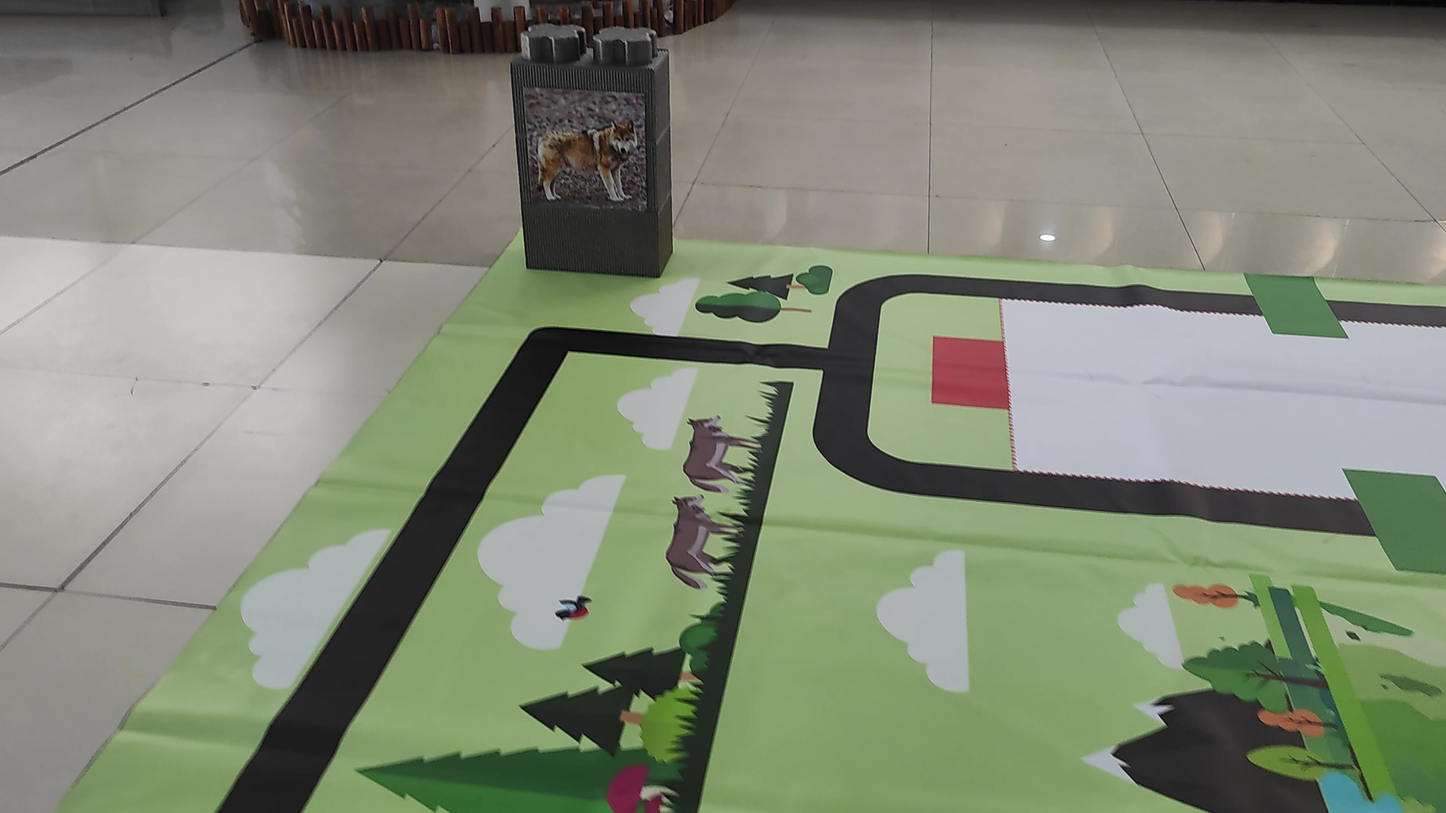wolf: (524, 86, 649, 211)
